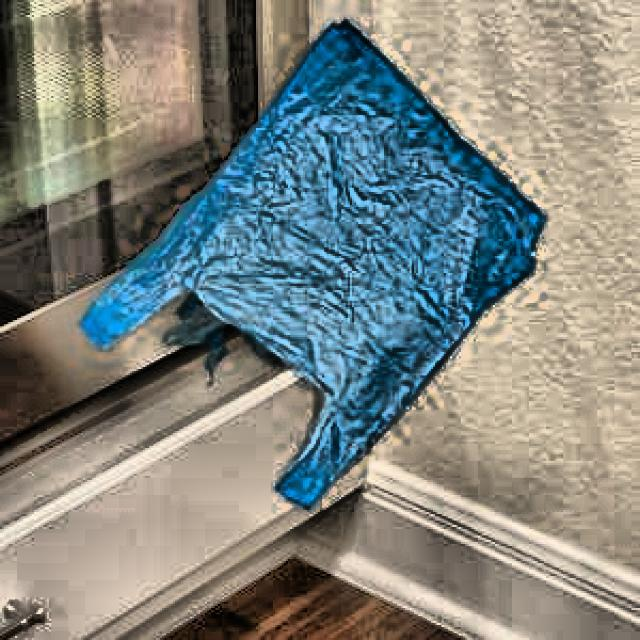Plastic: (73, 0, 553, 517)
